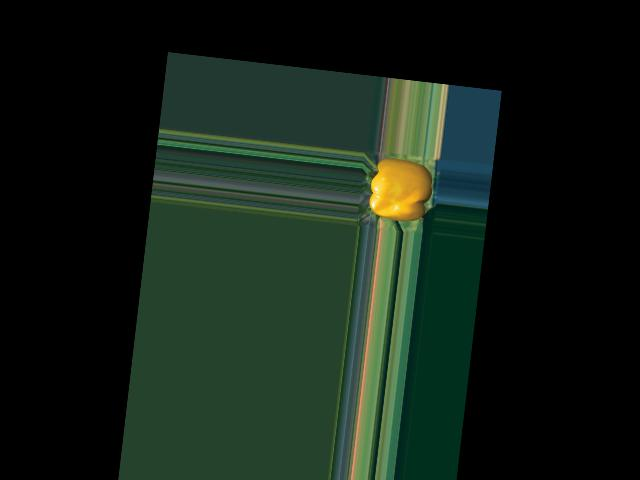bell_pepper: (360, 152, 436, 229)
